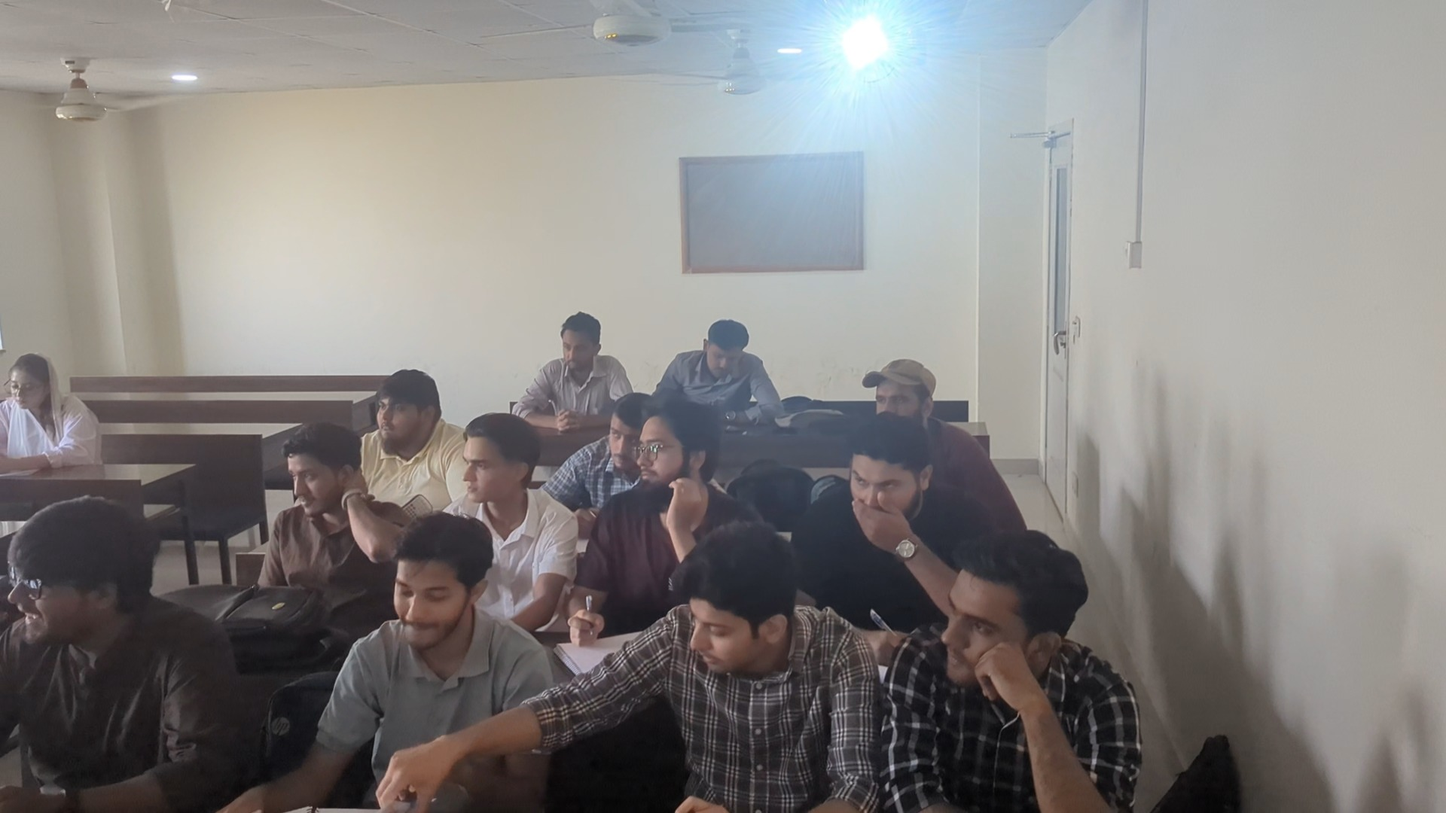look_forward: (918, 558, 1101, 790), (6, 490, 158, 743), (823, 405, 952, 554), (439, 417, 571, 545), (261, 418, 378, 562), (837, 318, 976, 429), (331, 356, 450, 479), (632, 409, 721, 560), (526, 284, 619, 406), (586, 403, 656, 498)
read: (680, 301, 791, 429)
sleep: (628, 545, 850, 787), (330, 533, 542, 756)
using_device: (5, 337, 132, 485)
